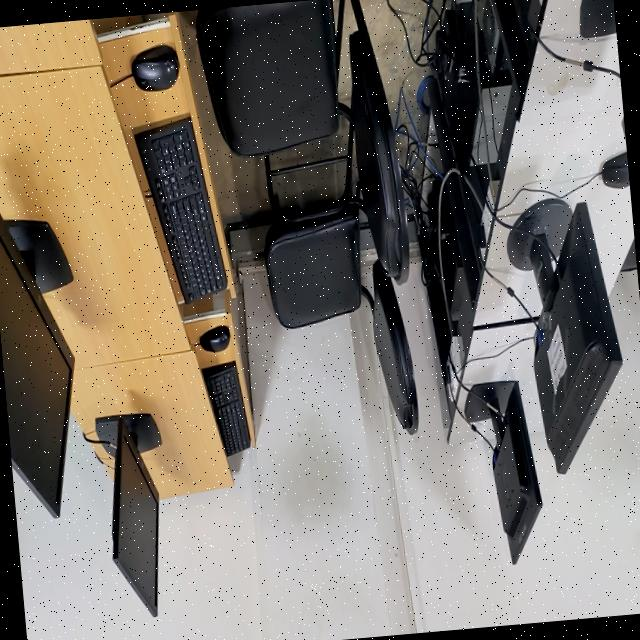Chair: (196, 0, 408, 327), (263, 104, 418, 433)
Cpu: (478, 0, 499, 72)
Keyboard: (135, 118, 227, 303), (202, 363, 250, 455)
Monitor: (507, 198, 622, 473), (0, 214, 74, 516), (465, 380, 542, 563), (112, 417, 159, 616), (580, 0, 616, 37)
Mouse: (131, 45, 179, 91), (601, 152, 629, 188), (199, 325, 230, 352)
